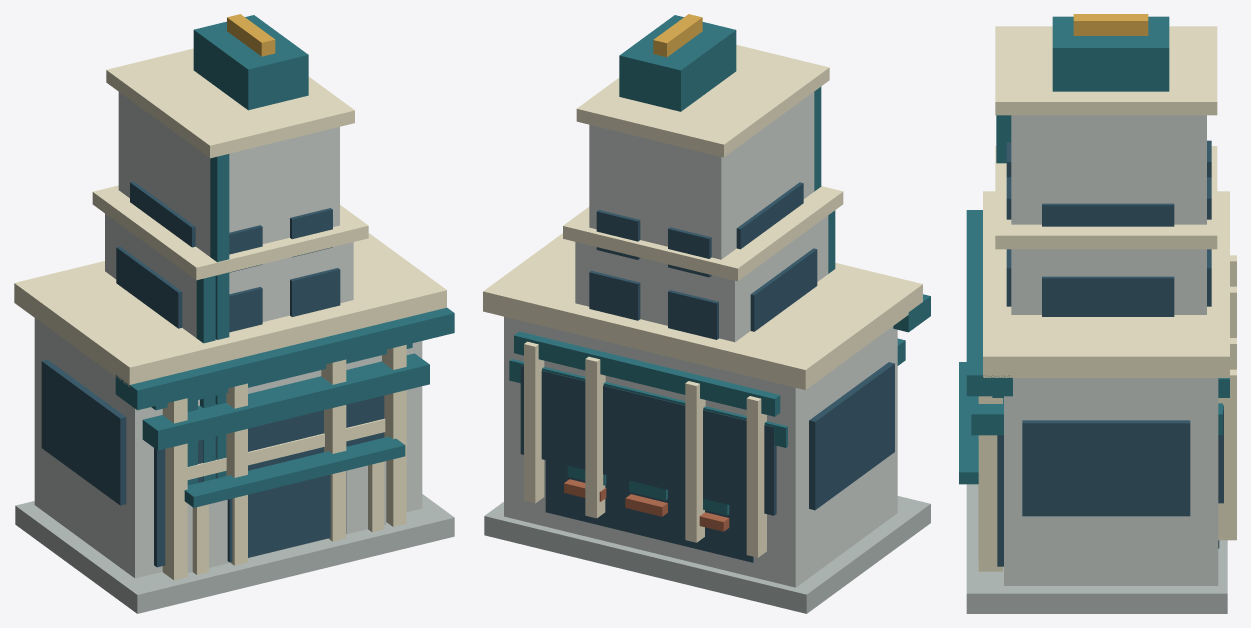
The model's file is civic-street.glb.
The picture shows the model from 3 angles, left to right: view 1: azimuth 30°, elevation 25°; view 2: azimuth 150°, elevation 25°; view 3: azimuth 270°, elevation 25°; orthographic projection. The views are drawn at different scales.
Parts seen in each view (by area): view 1: civic_bank_mesh, res_civic_4_mesh, res_civic_3_mesh, res_civic_1_mesh, civic_arcade_mesh, civic_notice_mesh; view 2: civic_bank_mesh, res_civic_4_mesh, res_civic_3_mesh, civic_arcade_mesh, civic_notice_mesh; view 3: civic_bank_mesh, res_civic_4_mesh, res_civic_3_mesh, res_civic_1_mesh, civic_arcade_mesh.
Boxes of the visible parts, left/top/right/bottom form: civic_bank_mesh: left=14, top=233, right=454, bottom=613; res_civic_4_mesh: left=106, top=14, right=354, bottom=478; res_civic_3_mesh: left=92, top=185, right=368, bottom=481; res_civic_1_mesh: left=184, top=418, right=405, bottom=574; civic_arcade_mesh: left=142, top=353, right=429, bottom=450; civic_notice_mesh: left=151, top=343, right=412, bottom=410; civic_bank_mesh: left=483, top=233, right=930, bottom=613; res_civic_4_mesh: left=576, top=14, right=829, bottom=337; res_civic_3_mesh: left=563, top=186, right=843, bottom=342; civic_arcade_mesh: left=509, top=338, right=905, bottom=562; civic_notice_mesh: left=514, top=331, right=780, bottom=416; civic_bank_mesh: left=966, top=191, right=1236, bottom=613; res_civic_4_mesh: left=995, top=14, right=1217, bottom=264; res_civic_3_mesh: left=995, top=146, right=1217, bottom=316; res_civic_1_mesh: left=959, top=362, right=978, bottom=559; civic_arcade_mesh: left=971, top=396, right=1222, bottom=548.
Size of the model in its own units: 4.2 by 6.22 by 2.98.
